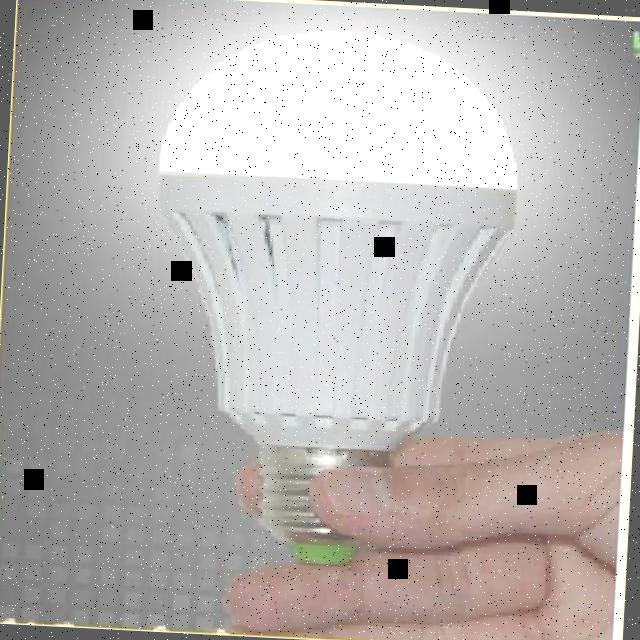light_bulb: (131, 13, 531, 580)
